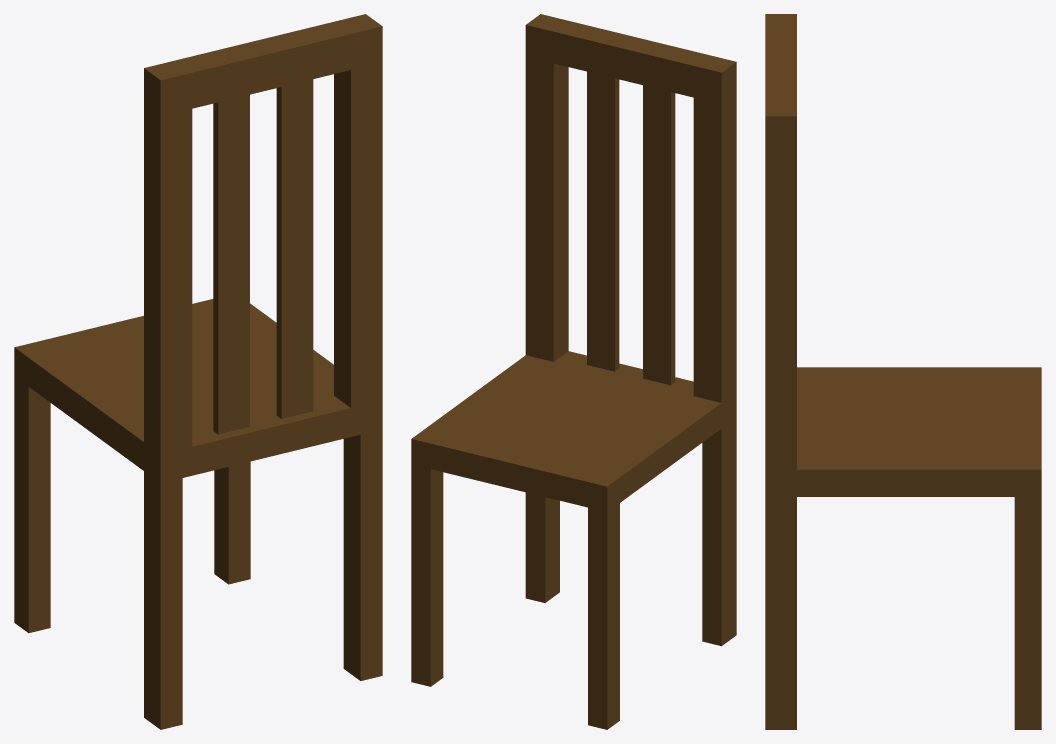
The model's file is chair.glb.
3 renders of one model, left to right at view 1: azimuth 30°, elevation 25°; view 2: azimuth 150°, elevation 25°; view 3: azimuth 270°, elevation 25°, orthographic. The views are drawn at different scales.
Visible parts, largest first — view 1: Chair; view 2: Chair; view 3: Chair.
Part boxes in pixels (left/top/right/bottom): Chair: left=14, top=14, right=382, bottom=729; Chair: left=411, top=14, right=736, bottom=729; Chair: left=765, top=14, right=1041, bottom=729.
Size of the model in its own units: 0.4212 by 1.18 by 0.4814.
